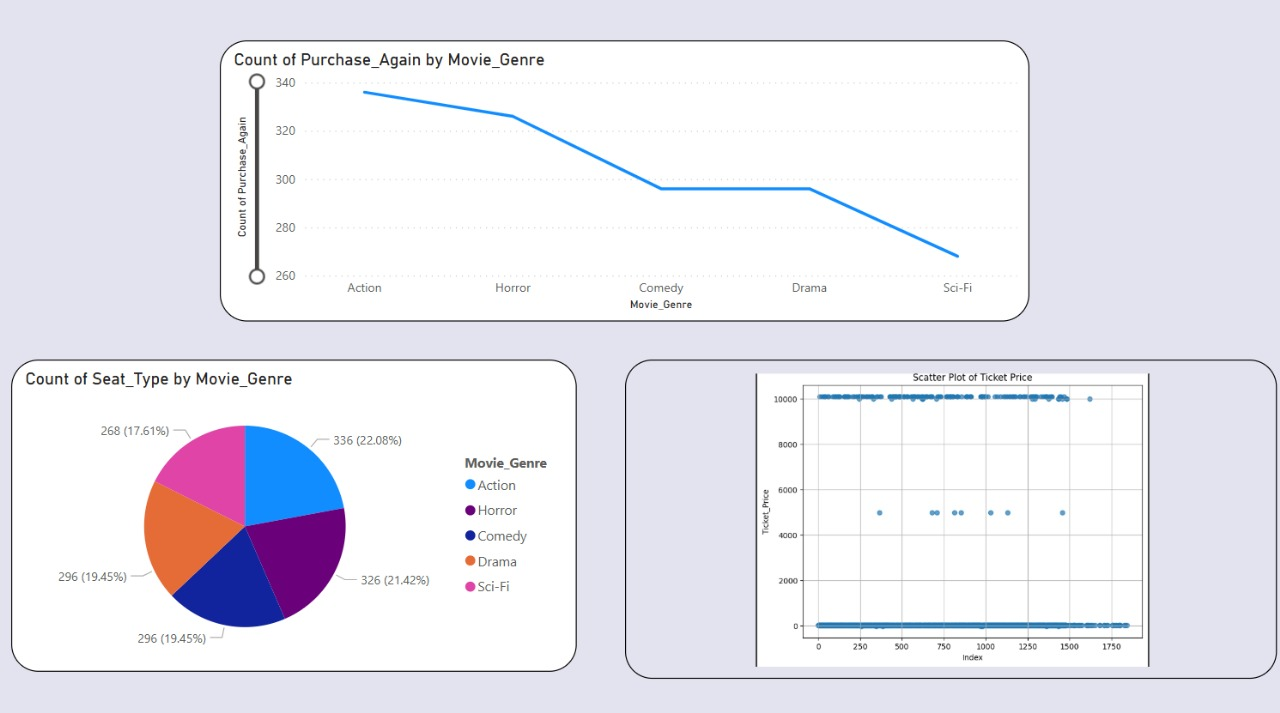

Layout of this report page (visuals, bound fields, positions):
{"tool":"powerbi","page":{"name":"Page 4","canvas":[1280,720],"ordinal":3},"visuals":[{"type":"lineChart","fields":{"Category":["cleaned_dataset.Movie_Genre"],"Y":["CountNonNull(cleaned_dataset.Purchase_Again)"]},"box":[222.5,42.3,805.6,280.3],"z":0},{"type":"image","box":[625.3,359.7,649.5,318.3],"z":1000},{"type":"pieChart","fields":{"Category":["cleaned_dataset.Movie_Genre"],"Y":["CountNonNull(cleaned_dataset.Seat_Type)"]},"box":[14.7,359.7,563.2,311.4],"z":2000}]}

Visuals, with their boxes in screenshot pixels (x1, y1, x2, y2), scaled from the page's 1280x720 canvas onto the 1280x713 screenshot:
lineChart - cleaned_dataset.Movie_Genre x CountNonNull(cleaned_dataset.Purchase_Again): bbox=[222, 42, 1028, 319]
image: bbox=[625, 356, 1275, 671]
pieChart - cleaned_dataset.Movie_Genre x CountNonNull(cleaned_dataset.Seat_Type): bbox=[15, 356, 578, 665]
